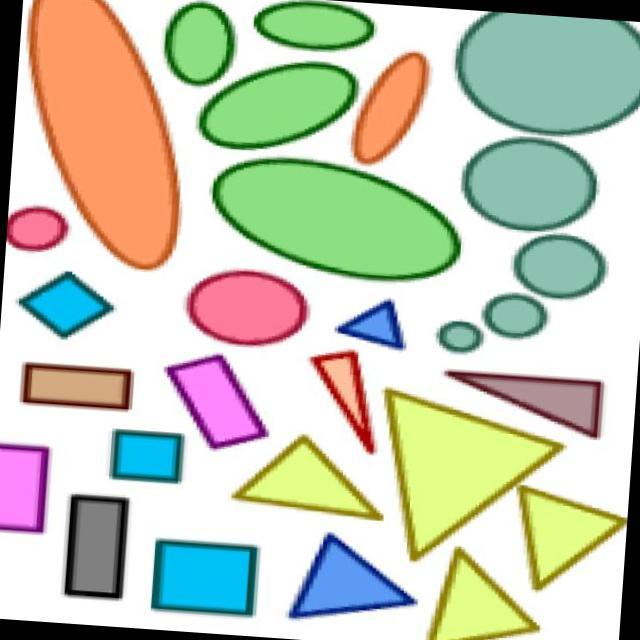circle: (453, 4, 640, 136), (443, 126, 613, 235), (463, 130, 603, 235), (188, 255, 310, 354), (508, 232, 616, 300), (482, 288, 549, 343), (10, 198, 74, 255), (433, 315, 485, 354)
square: (162, 349, 274, 452), (146, 526, 266, 619), (13, 348, 156, 420), (6, 266, 128, 341), (62, 482, 131, 613), (100, 414, 195, 494)
triangle: (379, 373, 559, 563), (500, 463, 630, 587), (233, 433, 393, 533), (440, 353, 614, 442), (282, 520, 414, 628), (414, 547, 538, 640), (326, 292, 419, 355)
